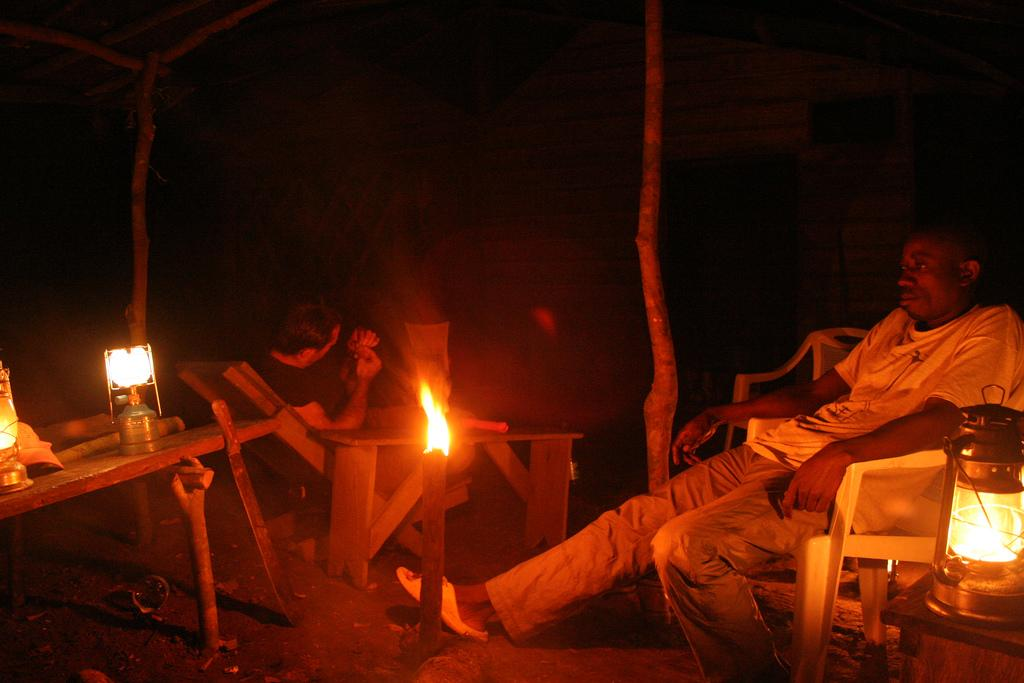fire: (963, 513, 1012, 565), (423, 397, 453, 458), (110, 343, 143, 383)
